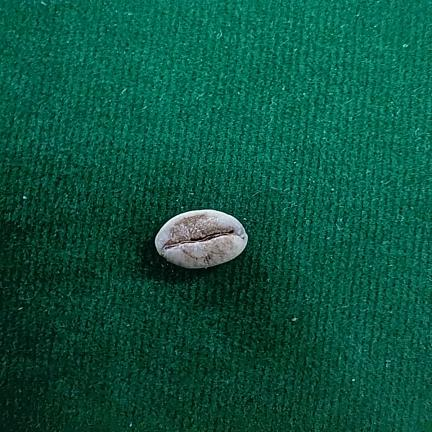immature: (155, 209, 248, 269)
